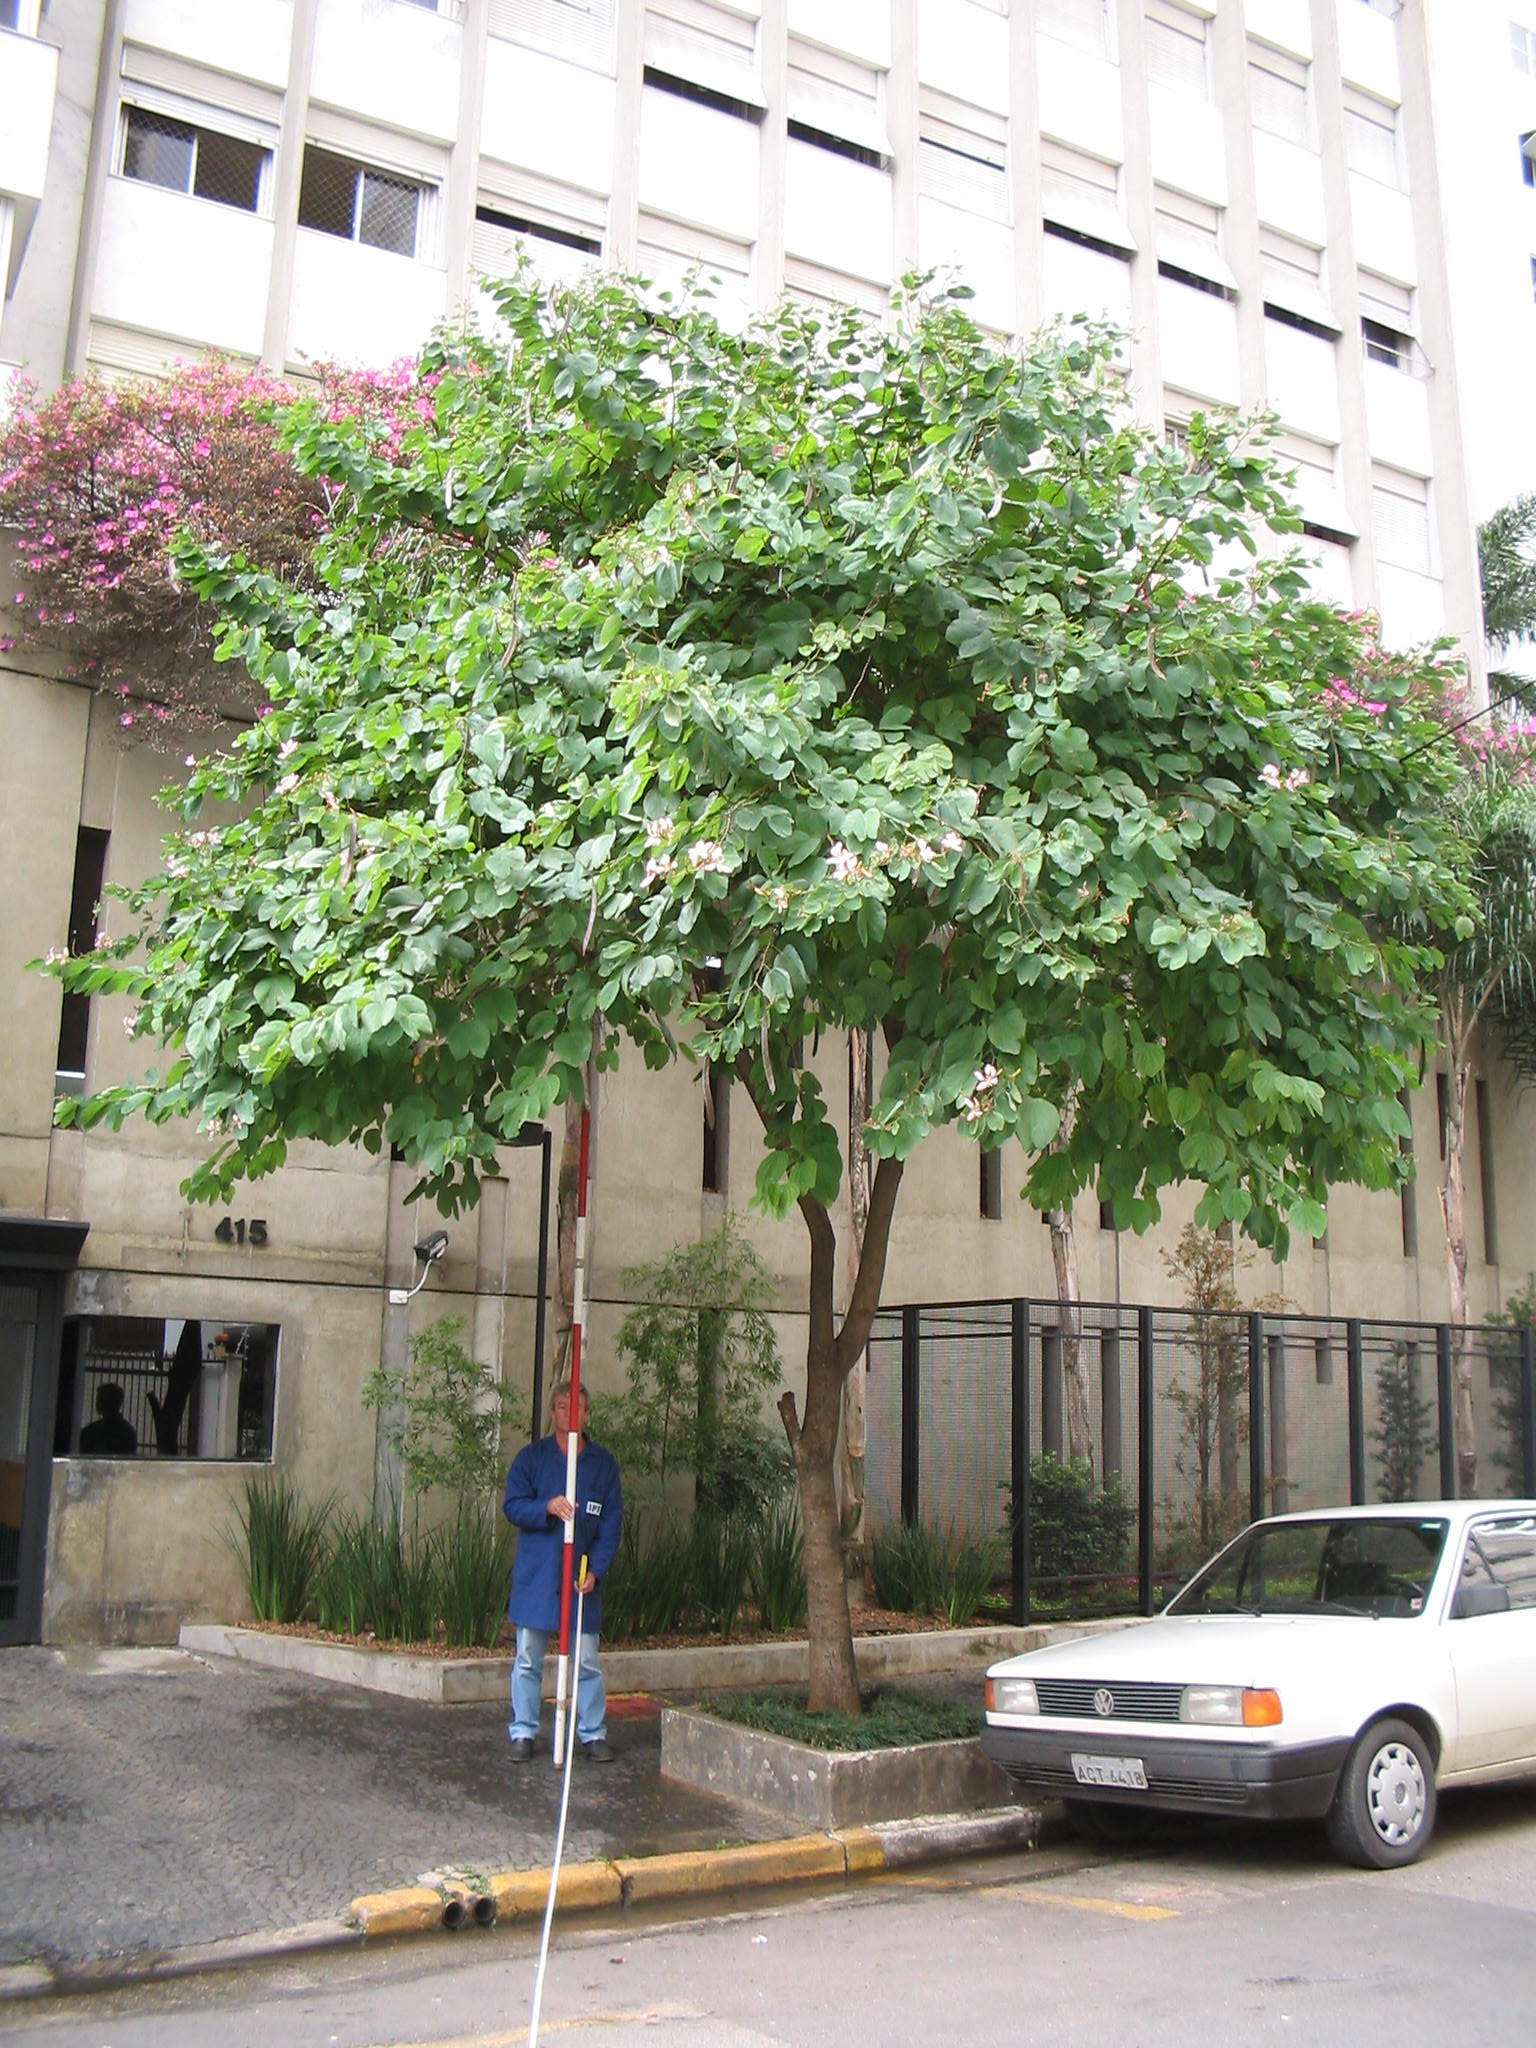crown: (35, 247, 1473, 1287)
stem: (760, 1340, 889, 1711)
stick: (524, 1100, 611, 1769)
tree: (27, 242, 1475, 1721)
